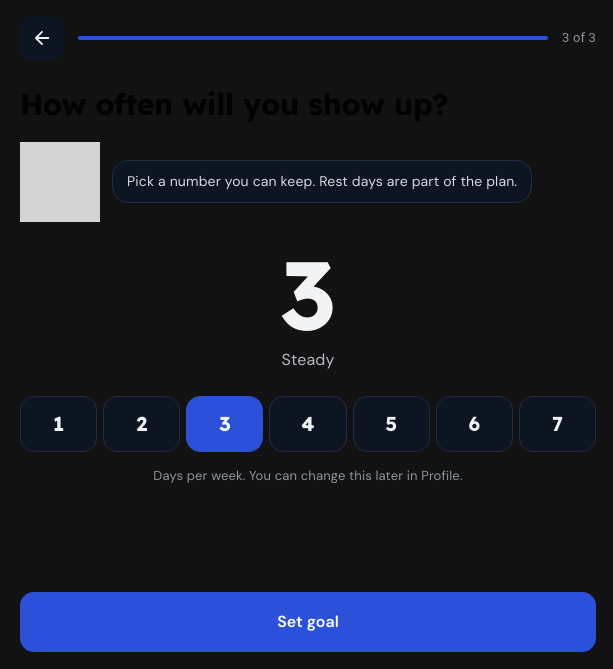
Test case: the seven buttons › exactly one is checked, and pressing another moves the check, the big number and the caption
Expected: the element showing "1 2 3 4 5 6 7" is shown, [20,396,596,452]
Step 1. Click the radio button labelled "1" → [59, 424], box [20,396,97,452]
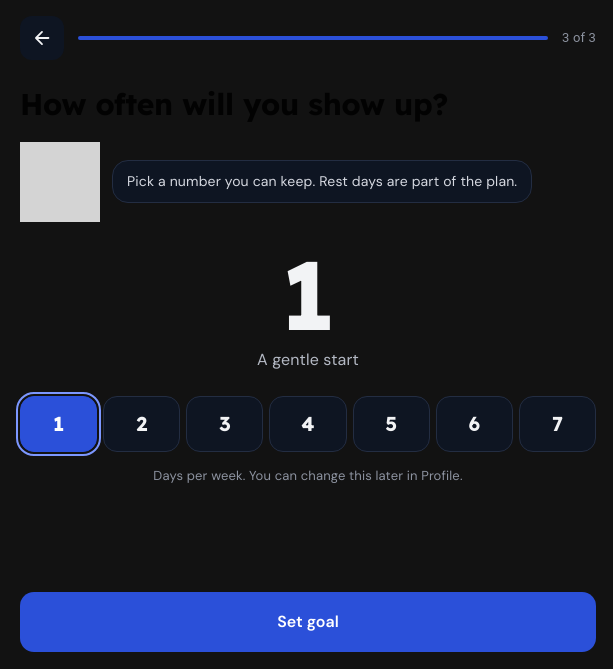
Expected: the text "1" is shown, [281,234,335,354]
Expected: the text "A gentle start" is shown, [257,349,359,370]
